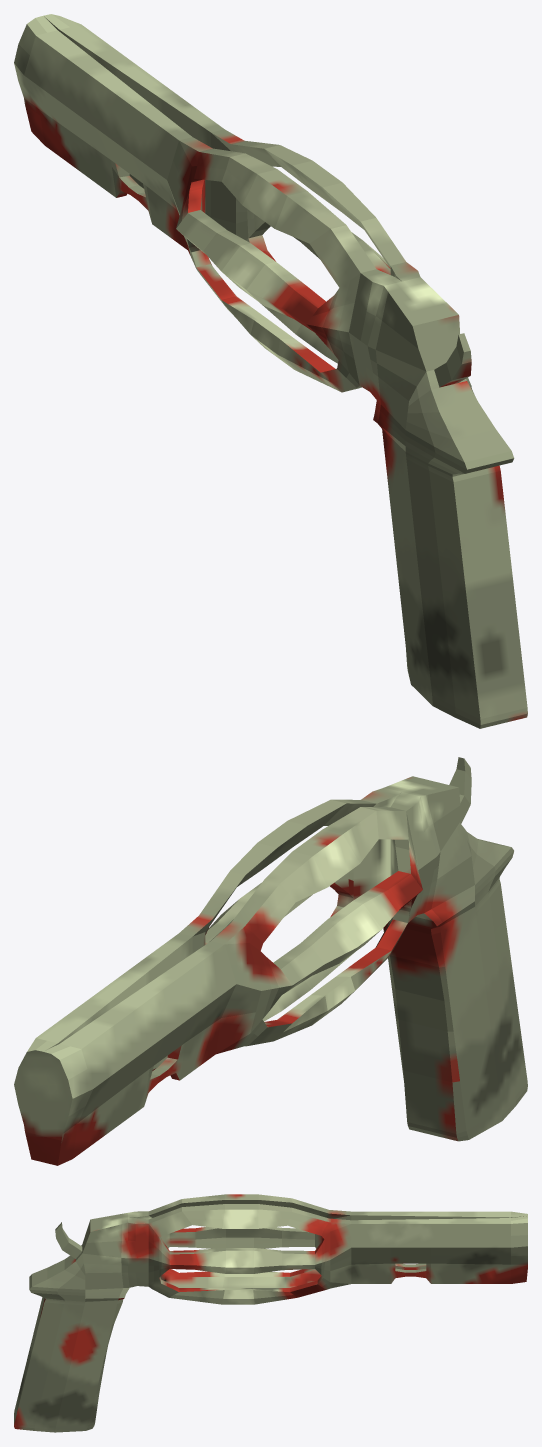
The model's file is agony.obj.
3 renders of one model, top to bottom at view 1: azimuth 30°, elevation 25°; view 2: azimuth 150°, elevation 25°; view 3: azimuth 270°, elevation 25°, orthographic. The views are drawn at different scales.
Visible parts, largest first — view 1: Cube; view 2: Cube; view 3: Cube.
Part boxes in pixels (x1=…): Cube: x1=14, y1=14, x2=527, y2=728; Cube: x1=14, y1=757, x2=527, y2=1165; Cube: x1=14, y1=1194, x2=527, y2=1432.
Bounding box in the file's own units: 1.25 × 3.5 × 7.37.
